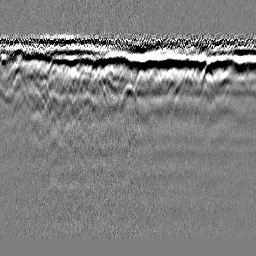cavity: (118, 80, 140, 117)
